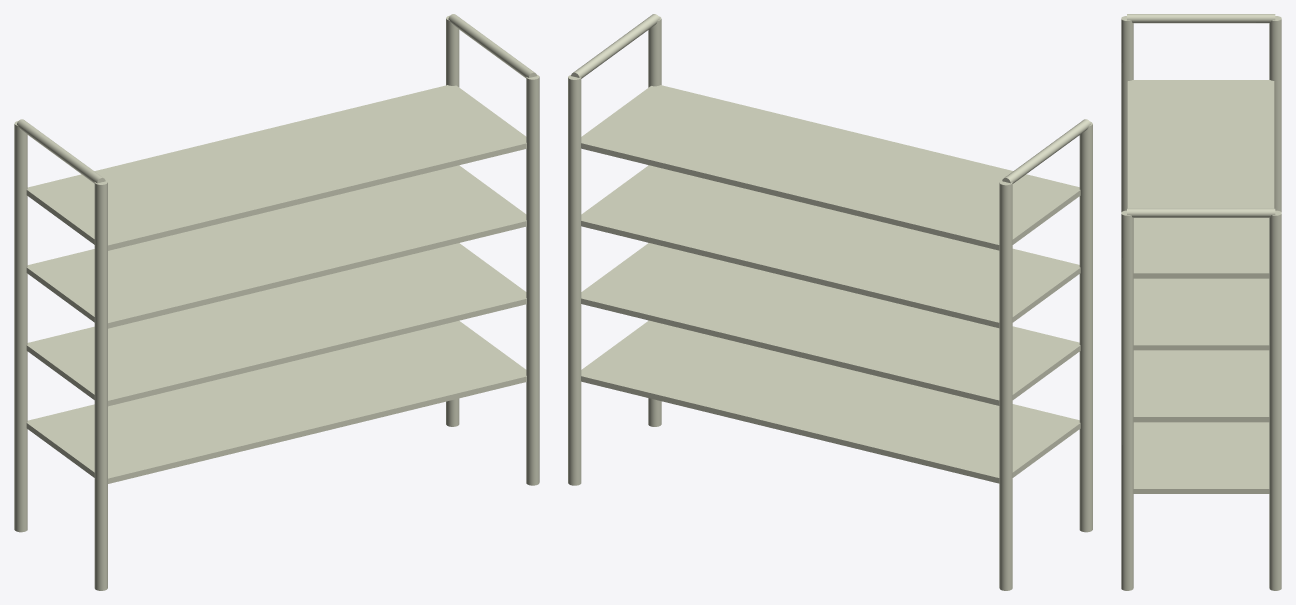
The model's file is 组装线_B1_机器12.fbx.
3 renders of one model, left to right at view 1: azimuth 30°, elevation 25°; view 2: azimuth 150°, elevation 25°; view 3: azimuth 270°, elevation 25°, orthographic. The views are drawn at different scales.
Parts seen in each view (by area): view 1: Cylinder006; view 2: Cylinder006; view 3: Cylinder006.
Boxes of the visible parts, left/top/right/bottom form: Cylinder006: left=14, top=14, right=539, bottom=590; Cylinder006: left=568, top=14, right=1092, bottom=590; Cylinder006: left=1121, top=14, right=1281, bottom=590.
Size of the model in its own units: 31.24 by 27.64 by 10.61.
